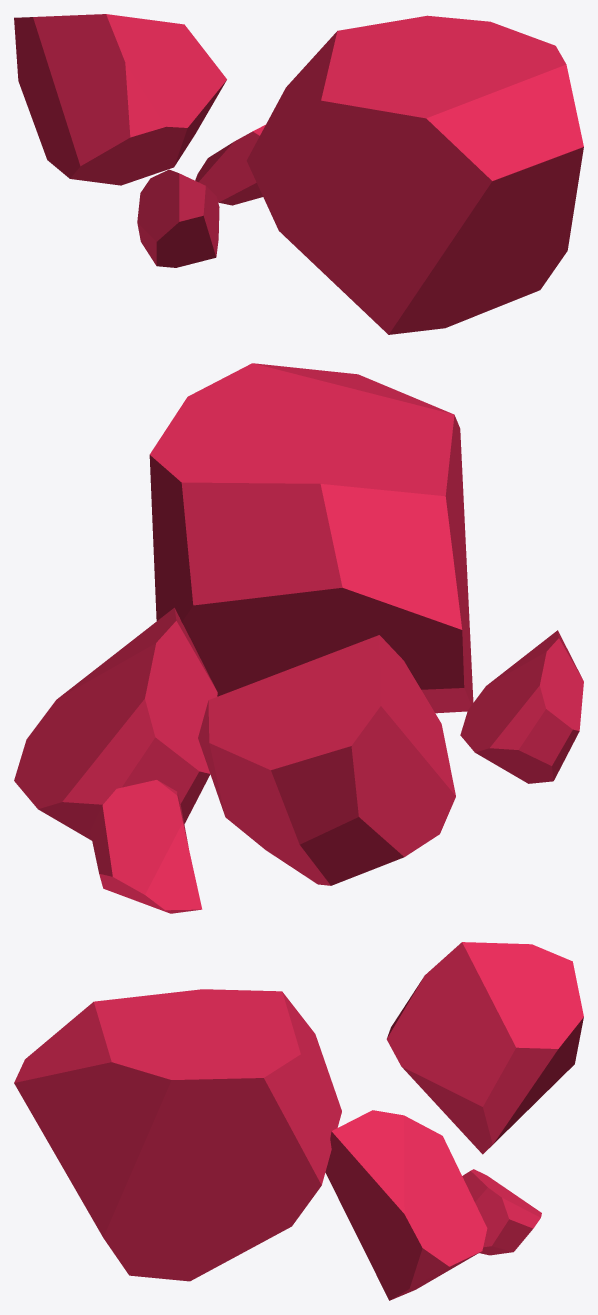
Rendered from pedrinhas2_Mdl_Dec_GZ.fbx.
3 views of the same model, one above another, from view 1: azimuth 30°, elevation 25°; view 2: azimuth 150°, elevation 25°; view 3: azimuth 270°, elevation 25° (orthographic). The views are drawn at different scales.
Visible parts, largest first — view 1: pedrinhas2; view 2: pedrinhas2; view 3: pedrinhas2.
Boxes of the visible parts, x1,y1,x2,y2 form: pedrinhas2: (14,14,583,334); pedrinhas2: (14,363,583,913); pedrinhas2: (14,942,583,1300).
Bounding box in the file's own units: 33.18 × 23.41 × 46.76.
